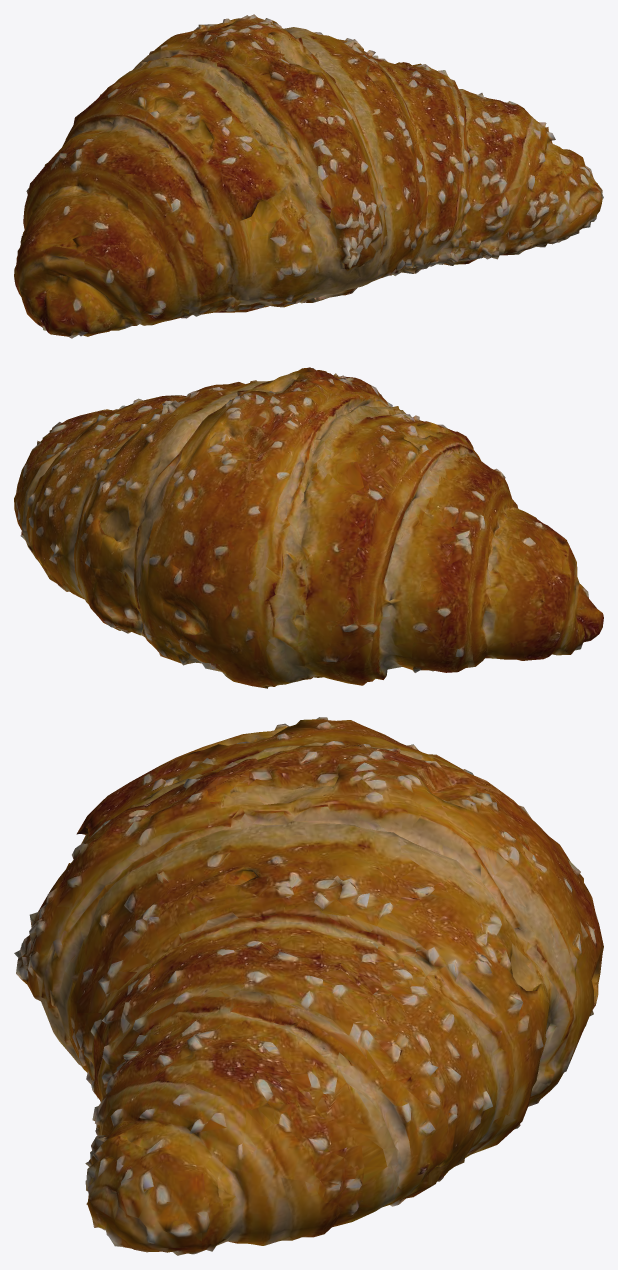
Rendered from croissant.glb.
The picture shows the model from 3 angles, top to bottom: view 1: azimuth 30°, elevation 25°; view 2: azimuth 150°, elevation 25°; view 3: azimuth 270°, elevation 25°; orthographic projection. The views are drawn at different scales.
Visible parts, largest first — view 1: Croissant; view 2: Croissant; view 3: Croissant.
Boxes of the visible parts, x1,y1,x2,y2 form: Croissant: (14,14,603,338); Croissant: (14,367,603,688); Croissant: (14,717,603,1255).
Bounding box in the file's own units: 1.02 × 0.3977 × 0.6471.
Materials: 1 (1 with a texture image).
